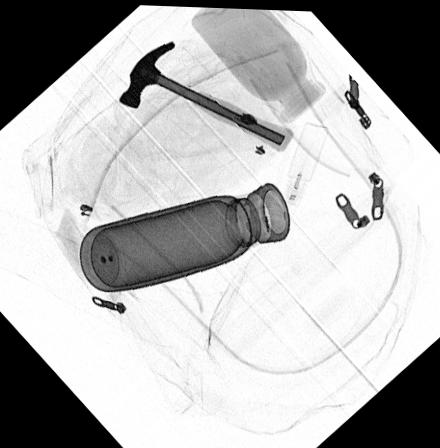Hammer: (117, 38, 293, 149)
